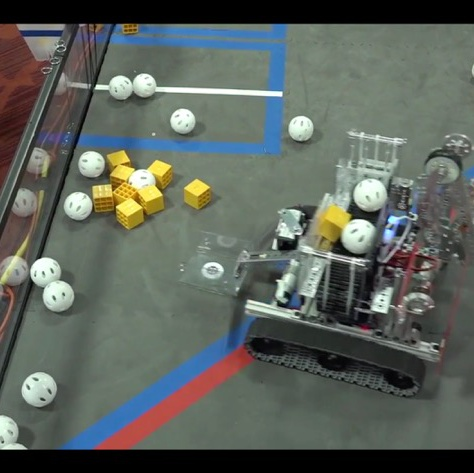robot: (170, 124, 473, 401)
